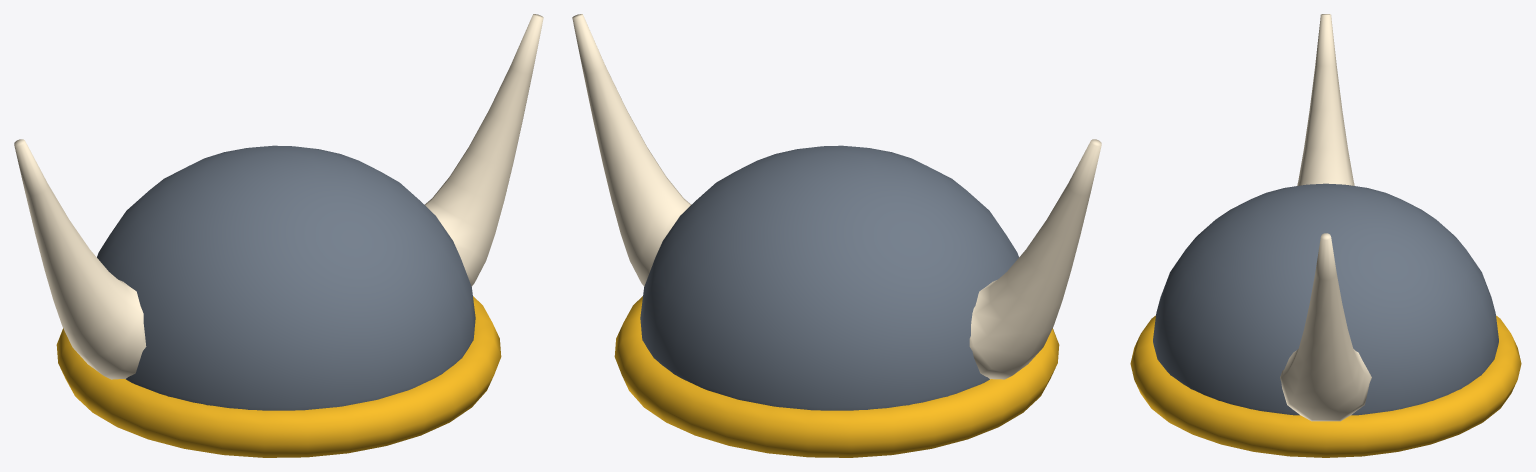
The model's file is hat_viking.glb.
3 views of the same model, side by side, from view 1: azimuth 30°, elevation 25°; view 2: azimuth 150°, elevation 25°; view 3: azimuth 270°, elevation 25° (orthographic). The views are drawn at different scales.
Visible parts, largest first — view 1: Body; view 2: Body; view 3: Body.
Boxes of the visible parts, x1,y1,x2,y2 form: Body: (14, 14, 543, 457); Body: (572, 14, 1101, 457); Body: (1130, 14, 1521, 457).
Size of the model in its own units: 0.8343 by 0.4476 by 0.61.
